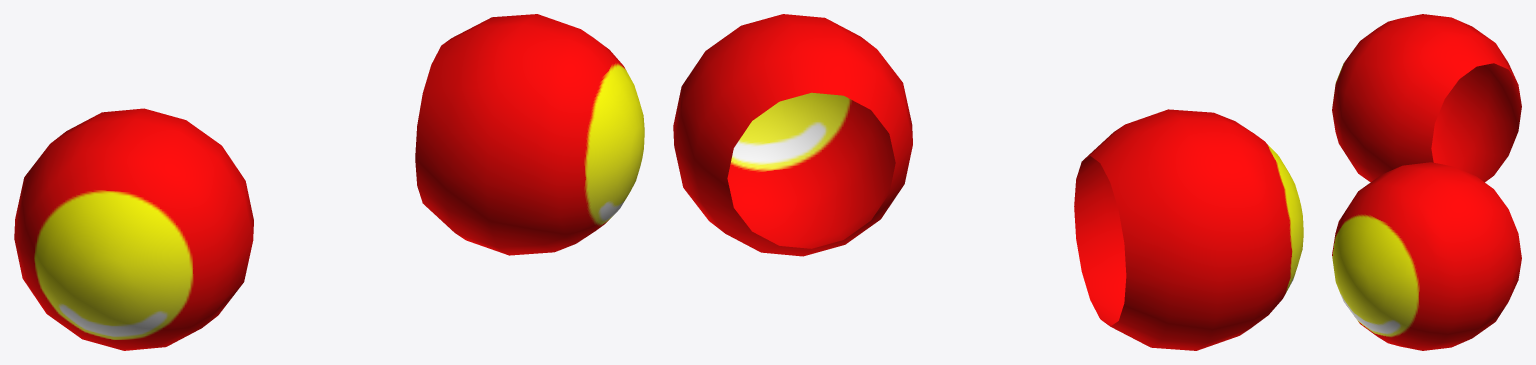
The model's file is Griffin_LQ_Eyes_Mesh.glb.
The picture shows the model from 3 angles, left to right: view 1: azimuth 30°, elevation 25°; view 2: azimuth 150°, elevation 25°; view 3: azimuth 270°, elevation 25°; orthographic projection. The views are drawn at different scales.
Visible parts, largest first — view 1: Griffin_LQ_Eyes_Mesh; view 2: Griffin_LQ_Eyes_Mesh; view 3: Griffin_LQ_Eyes_Mesh.
Part boxes in pixels (<box>): Griffin_LQ_Eyes_Mesh: <box>14,14,644,350</box>; Griffin_LQ_Eyes_Mesh: <box>673,14,1303,350</box>; Griffin_LQ_Eyes_Mesh: <box>1332,14,1521,350</box>.
Size of the model in its own units: 0.3528 by 0.1241 by 0.124.
Materials: 1 (1 with a texture image).
